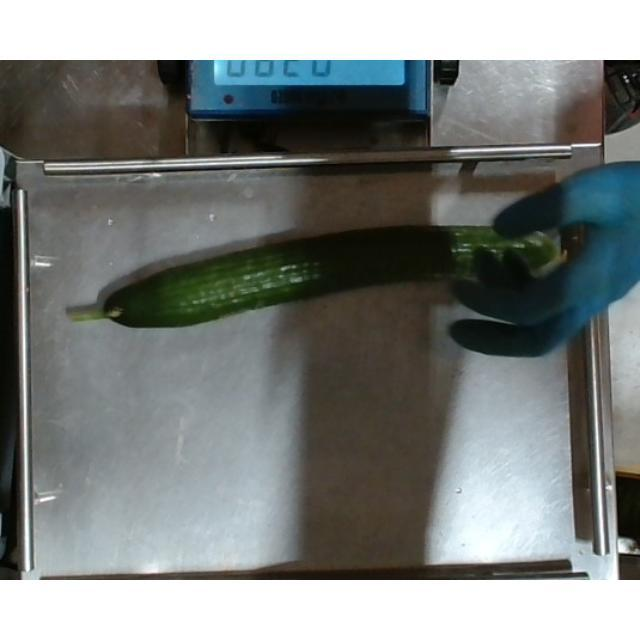cucumber: (70, 224, 558, 326)
